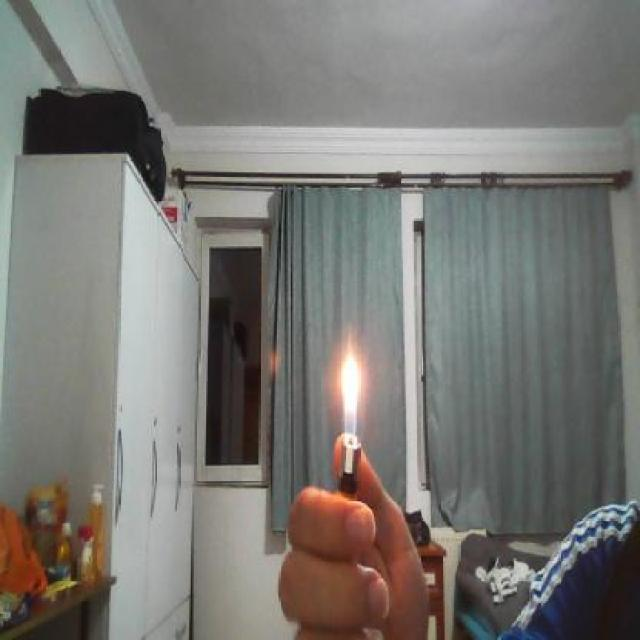Fire: (319, 331, 380, 440)
